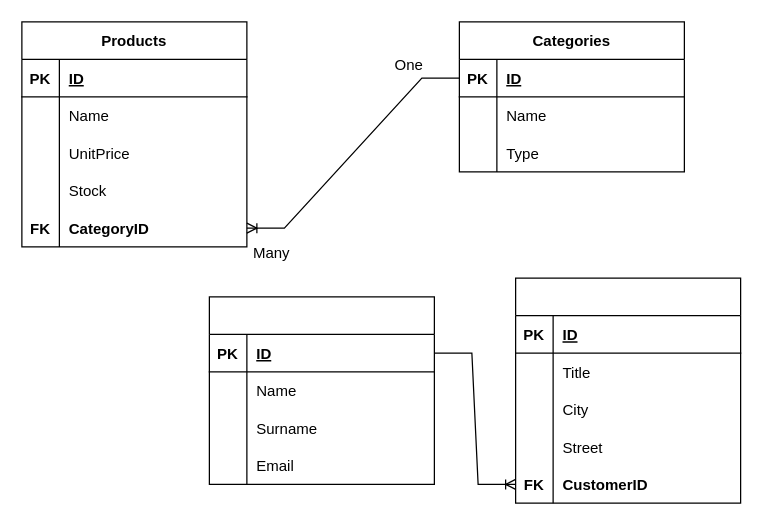
Image size: 763x525. Some labels were removed from this diagram. Here are the shapes that lost their labels. From the top down, the box of each, then its label:
(208, 296, 434, 484): Customer
(514, 277, 741, 503): Adress
